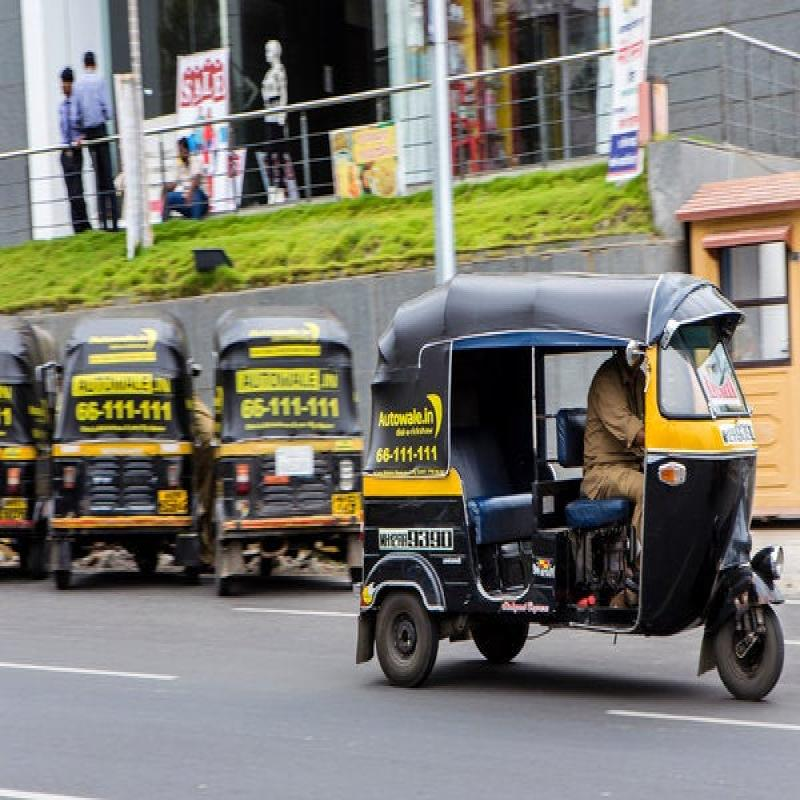auto: (353, 262, 791, 715), (213, 306, 366, 578), (64, 313, 188, 581), (2, 302, 48, 572)
